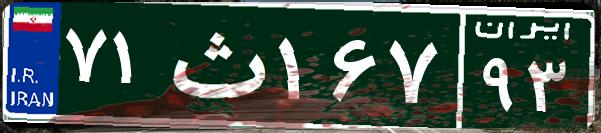1: (273, 28, 330, 110), (110, 28, 158, 105)
3: (525, 38, 570, 115)
6: (330, 28, 385, 110)
7: (385, 28, 445, 110), (57, 26, 110, 107)
9: (475, 38, 525, 113)
ث: (158, 15, 273, 115)
